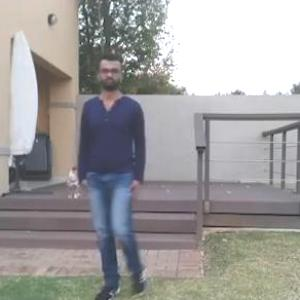follow: (77, 50, 159, 296)
